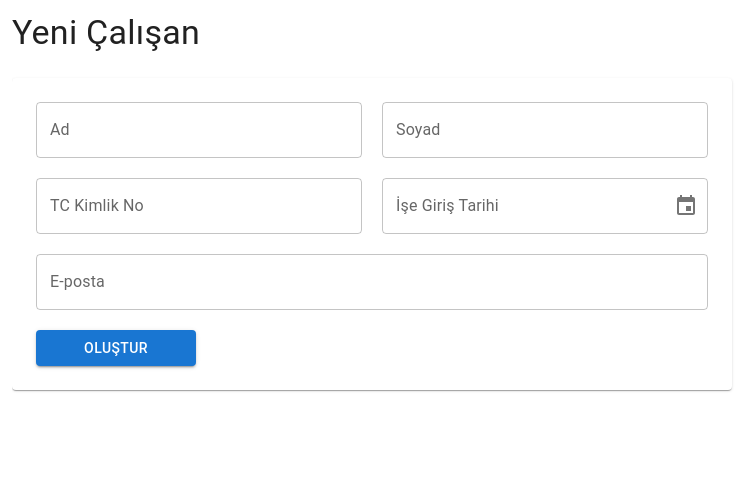
EmployeeCreatePage › boş formu submit edince validasyon hatalarını gösterir
Click the button "Oluştur".
click(116, 348)  # box [36,330,196,366]
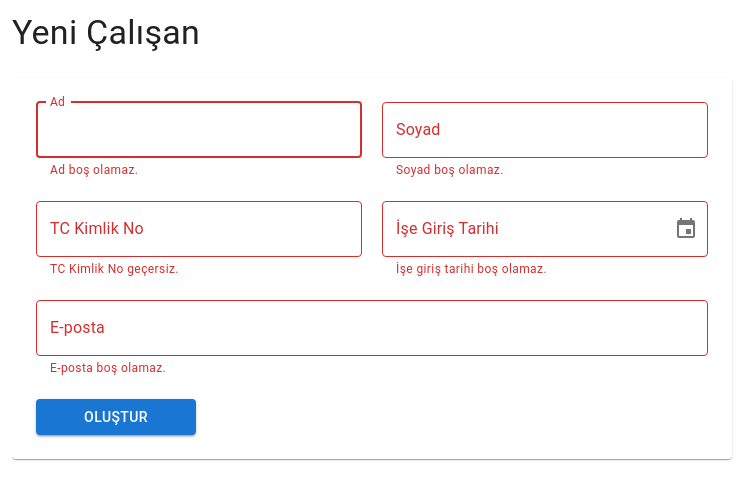
Now the text "Ad boş olamaz." is shown, box [50,163,138,177]
Now the text "Soyad boş olamaz." is shown, box [396,163,504,177]
Now the text "E-posta boş olamaz." is shown, box [50,361,166,375]
